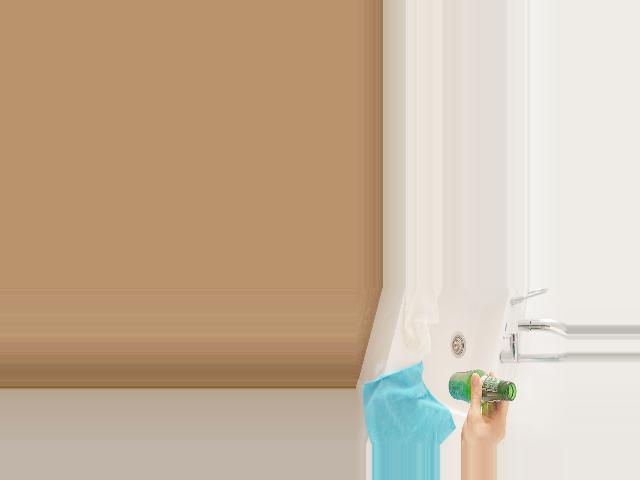beer: (447, 369, 515, 406)
